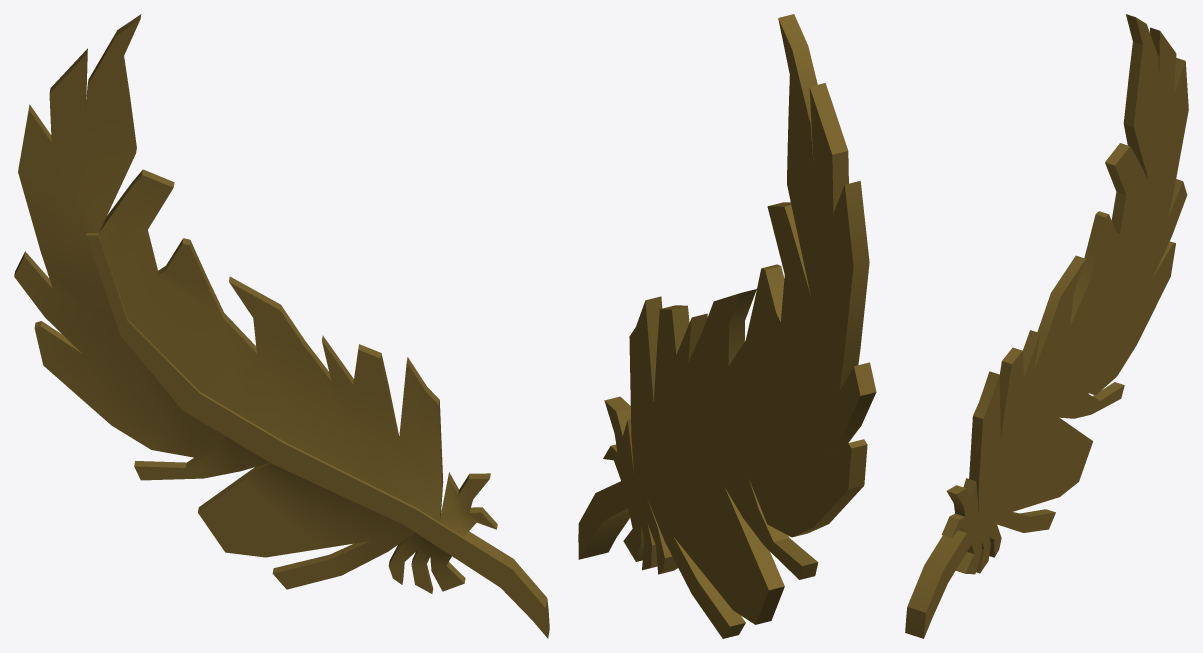
The model's file is MaskFeatherLeft2.fbx.
3 views of the same model, side by side, from view 1: azimuth 30°, elevation 25°; view 2: azimuth 150°, elevation 25°; view 3: azimuth 270°, elevation 25° (orthographic). The views are drawn at different scales.
Visible parts, largest first — view 1: FeatherLeft; view 2: FeatherLeft; view 3: FeatherLeft.
Boxes of the visible parts, x1,y1,x2,y2 form: FeatherLeft: [14, 14, 549, 638]; FeatherLeft: [578, 14, 876, 638]; FeatherLeft: [905, 14, 1188, 638].
Bounding box in the file's own units: 12.96 × 19 × 9.68.
